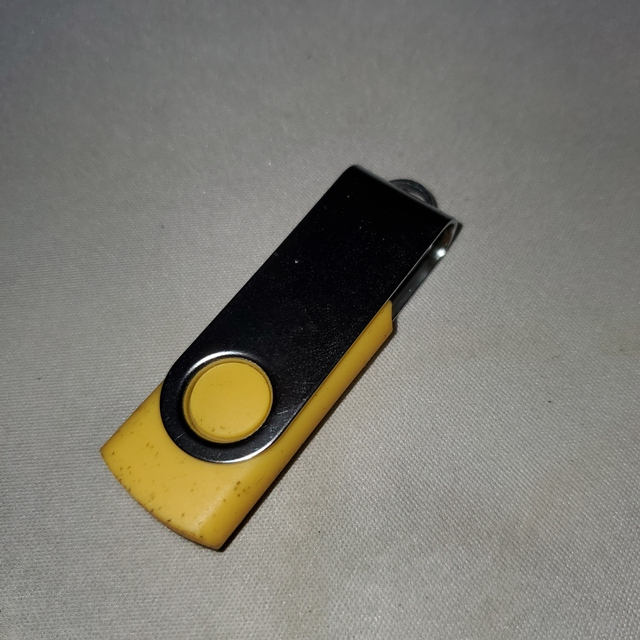usb_drive: (94, 159, 464, 558)
